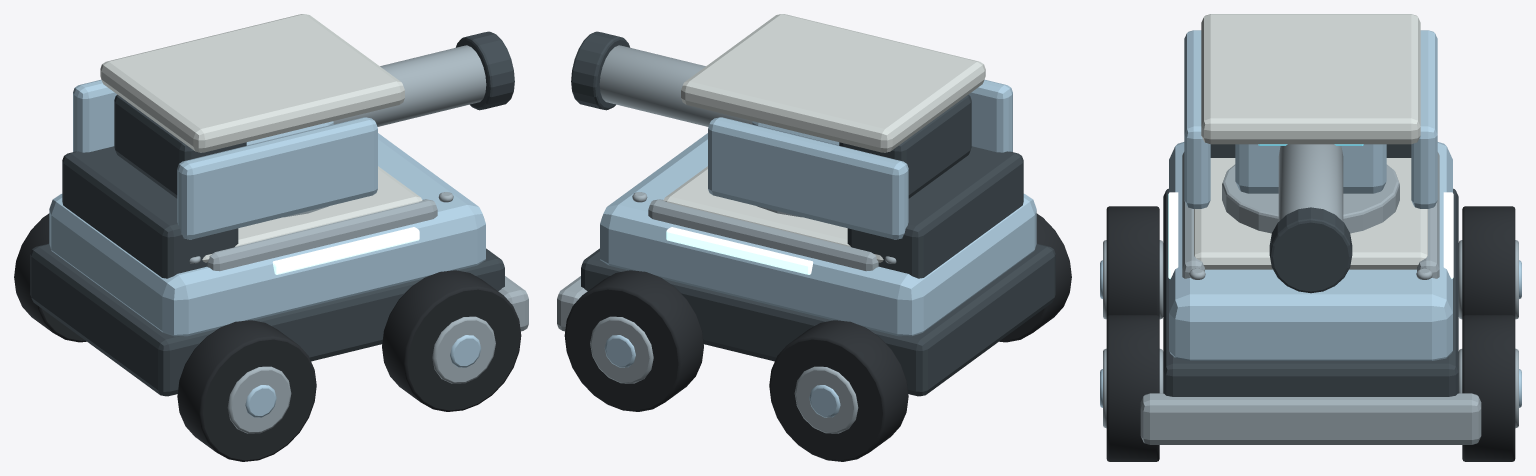
Rendered from robot-hero.glb.
The picture shows the model from 3 angles, left to right: view 1: azimuth 30°, elevation 25°; view 2: azimuth 150°, elevation 25°; view 3: azimuth 270°, elevation 25°; orthographic projection. The views are drawn at different scales.
Parts seen in each view (by area): view 1: Chassis_GraphiteArmor, ArmorHull, HeavyPlate, Turret_TeamPrimary, WheelTire.002, WheelTire, Chassis_BrushedTitanium, Barrel, AmmoContainer, TopPlate, Hub, Hub.002 (+5 smaller); view 2: Chassis_GraphiteArmor, ArmorHull, HeavyPlate, Turret_TeamPrimary, WheelTire.003, WheelTire.001, Chassis_BrushedTitanium, Barrel, AmmoContainer, TopPlate, Hub.001, Hub.003 (+5 smaller); view 3: HeavyPlate, ArmorHull, Chassis_BrushedTitanium, Chassis_GraphiteArmor, Turret_TeamPrimary, TopPlate, WheelTire.003, WheelTire.002, WheelTire.001, WheelTire, MuzzleBrake, Barrel (+6 smaller).
Boxes of the visible parts, box(x1,y1,x2,y2) form: Chassis_GraphiteArmor: box(30, 146, 504, 396); ArmorHull: box(49, 133, 485, 336); HeavyPlate: box(100, 14, 404, 152); Turret_TeamPrimary: box(73, 79, 377, 239); WheelTire.002: box(382, 270, 521, 411); WheelTire: box(177, 320, 316, 461); Chassis_BrushedTitanium: box(189, 192, 528, 331); Barrel: box(333, 45, 486, 126); AmmoContainer: box(114, 94, 246, 198); TopPlate: box(202, 166, 422, 262); Hub: box(227, 366, 291, 433); Hub.002: box(432, 316, 495, 383); Chassis_GraphiteArmor: box(581, 146, 1055, 396); ArmorHull: box(600, 133, 1036, 336); HeavyPlate: box(681, 14, 985, 152); Turret_TeamPrimary: box(708, 79, 1012, 239); WheelTire.003: box(564, 270, 703, 411); WheelTire.001: box(769, 320, 908, 461); Chassis_BrushedTitanium: box(557, 192, 896, 331); Barrel: box(599, 45, 752, 126); AmmoContainer: box(839, 94, 971, 198); TopPlate: box(663, 166, 883, 262); Hub.001: box(794, 366, 858, 433); Hub.003: box(590, 316, 653, 383); HeavyPlate: box(1201, 14, 1420, 144); ArmorHull: box(1169, 142, 1452, 360); Chassis_BrushedTitanium: box(1140, 152, 1481, 444); Chassis_GraphiteArmor: box(1163, 144, 1458, 396); Turret_TeamPrimary: box(1184, 30, 1437, 208); TopPlate: box(1194, 158, 1427, 269); WheelTire.003: box(1462, 315, 1515, 461); WheelTire.002: box(1106, 315, 1159, 461); WheelTire.001: box(1462, 206, 1515, 317); WheelTire: box(1106, 206, 1159, 317); MuzzleBrake: box(1269, 207, 1352, 293); Barrel: box(1278, 144, 1343, 221).
Bounding box in the file's own units: 0.9095 × 0.6477 × 0.7582.
